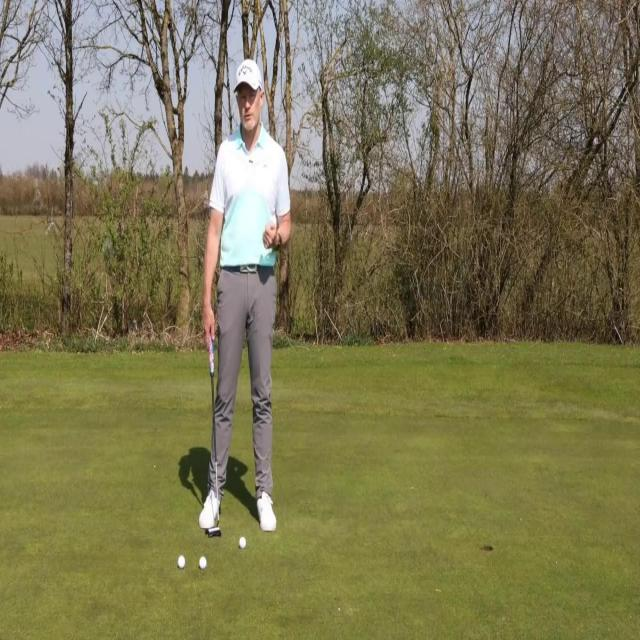GolfBall: (195, 550, 212, 574), (234, 531, 248, 553), (174, 552, 188, 574)
